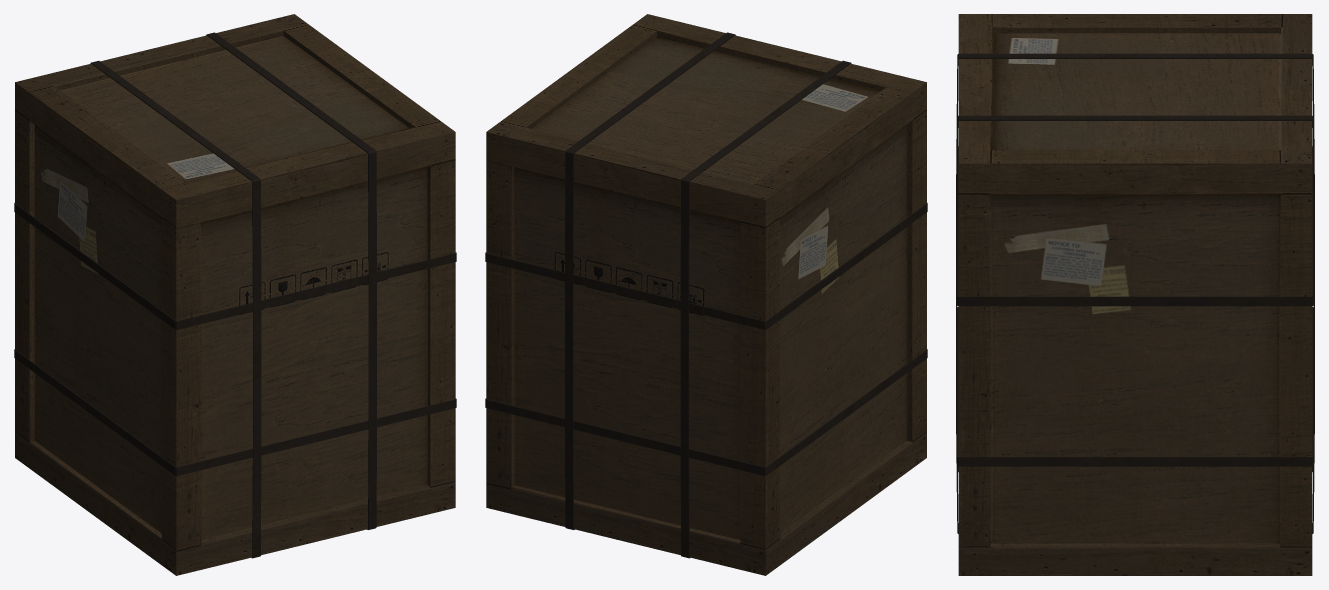
Rendered from wooden_crate_hx_1_1.dae.
3 renders of one model, left to right at view 1: azimuth 30°, elevation 25°; view 2: azimuth 150°, elevation 25°; view 3: azimuth 270°, elevation 25°, orthographic. The views are drawn at different scales.
Parts seen in each view (by area): view 1: wooden_crate_hx_1_1; view 2: wooden_crate_hx_1_1; view 3: wooden_crate_hx_1_1.
Boxes of the visible parts, x1,y1,x2,y2 form: wooden_crate_hx_1_1: (14,14,456,575); wooden_crate_hx_1_1: (485,14,927,575); wooden_crate_hx_1_1: (956,14,1314,575).
Size of the model in its own units: 1.41 by 1.42 by 1.81.
2 materials, 2 textured.
